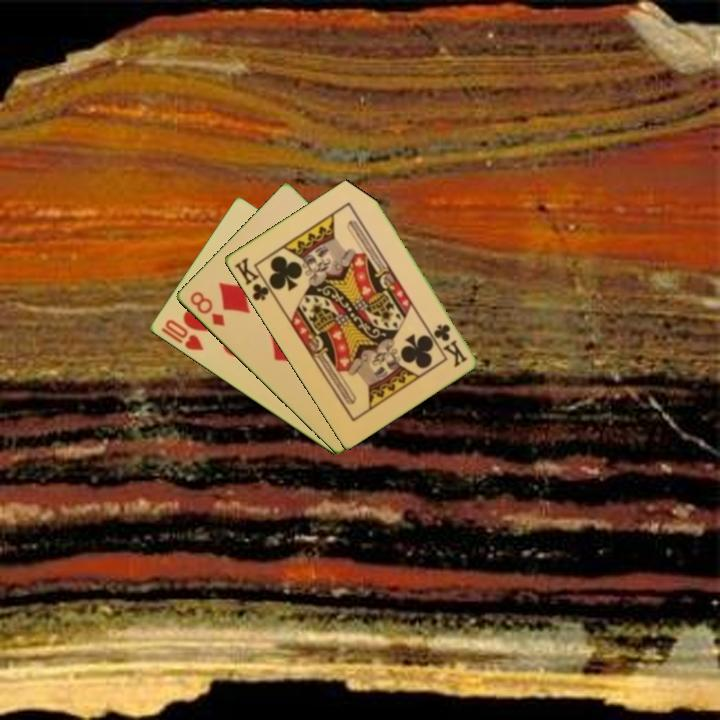10h: (161, 316, 206, 354)
8d: (186, 288, 227, 329)
Kc: (231, 254, 276, 304), (430, 320, 470, 369)
